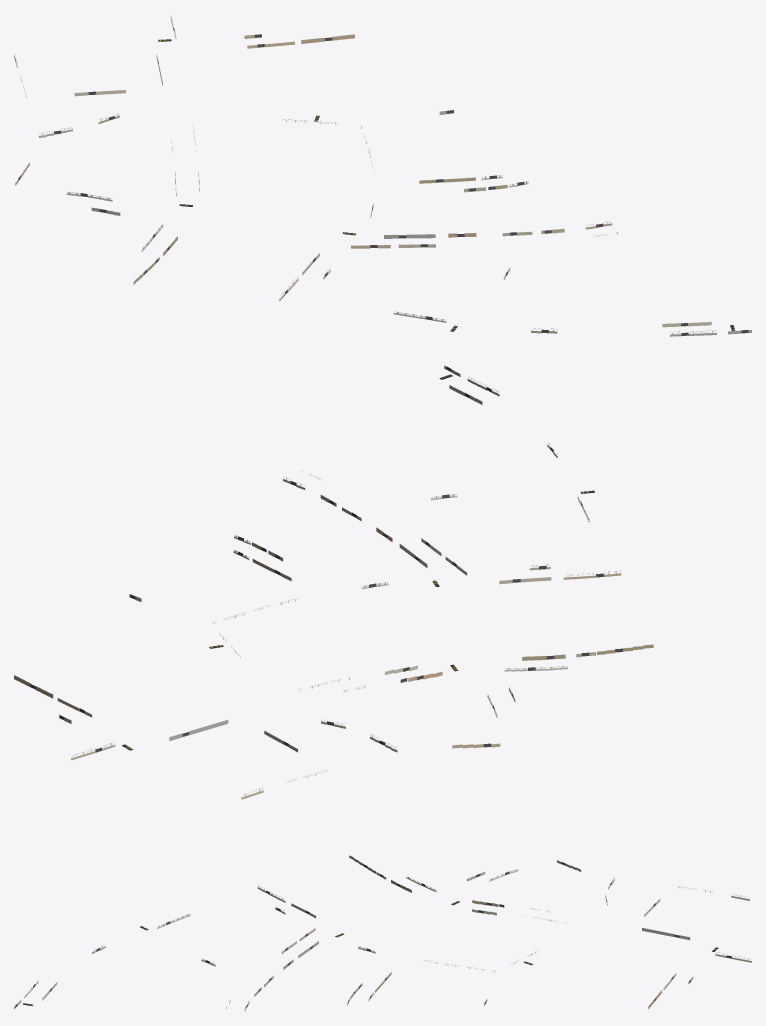
3 renders of one model, top to bottom at view 1: azimuth 30°, elevation 25°; view 2: azimuth 150°, elevation 25°; view 3: azimuth 270°, elevation 25°, orthographic. The views are drawn at different scales.
Visible parts, largest first — view 1: nd_st_m16_m11_lod0; view 2: nd_st_m16_m11_lod0; view 3: nd_st_m16_m11_lod0.
Boxes of the visible parts, x1,y1,x2,y2 form: nd_st_m16_m11_lod0: [14, 15, 751, 336]; nd_st_m16_m11_lod0: [14, 365, 653, 799]; nd_st_m16_m11_lod0: [14, 855, 751, 1011].
Size of what is drawn, in the model's own units: 252 by 10.44 by 426.
